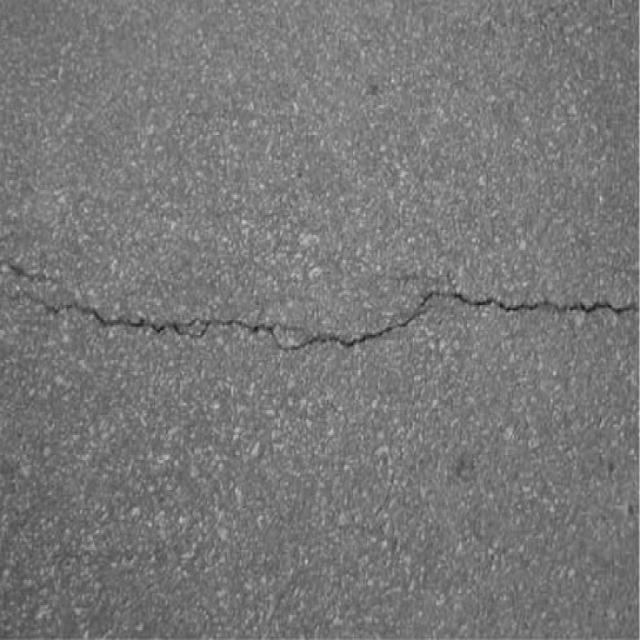crack: (3, 250, 639, 366)
